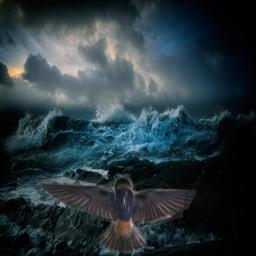Swallow: (33, 174, 199, 254)
